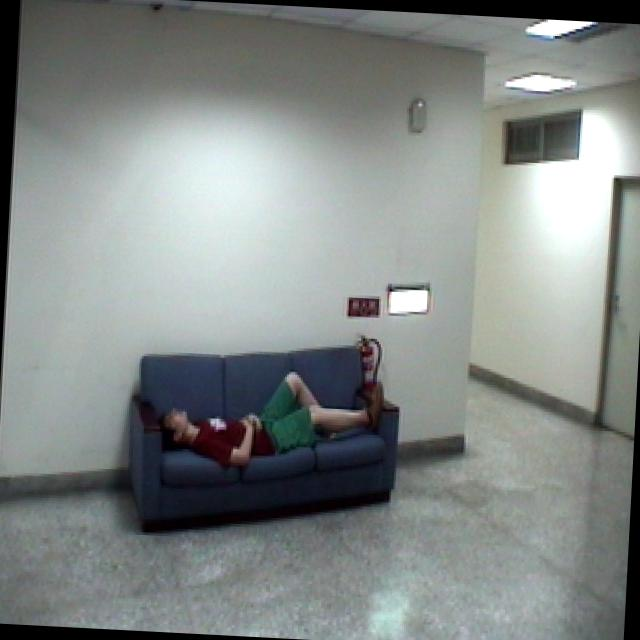lie: (154, 356, 394, 471)
